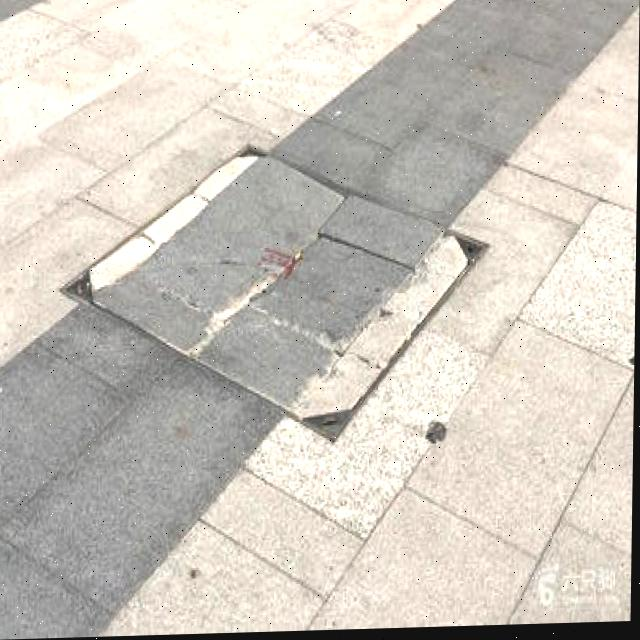manhole: (62, 133, 491, 453)
